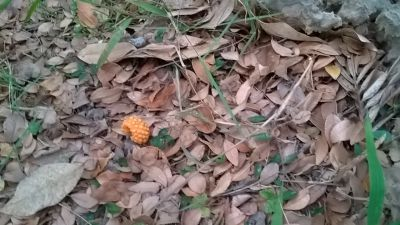eggs: (121, 114, 152, 145)
